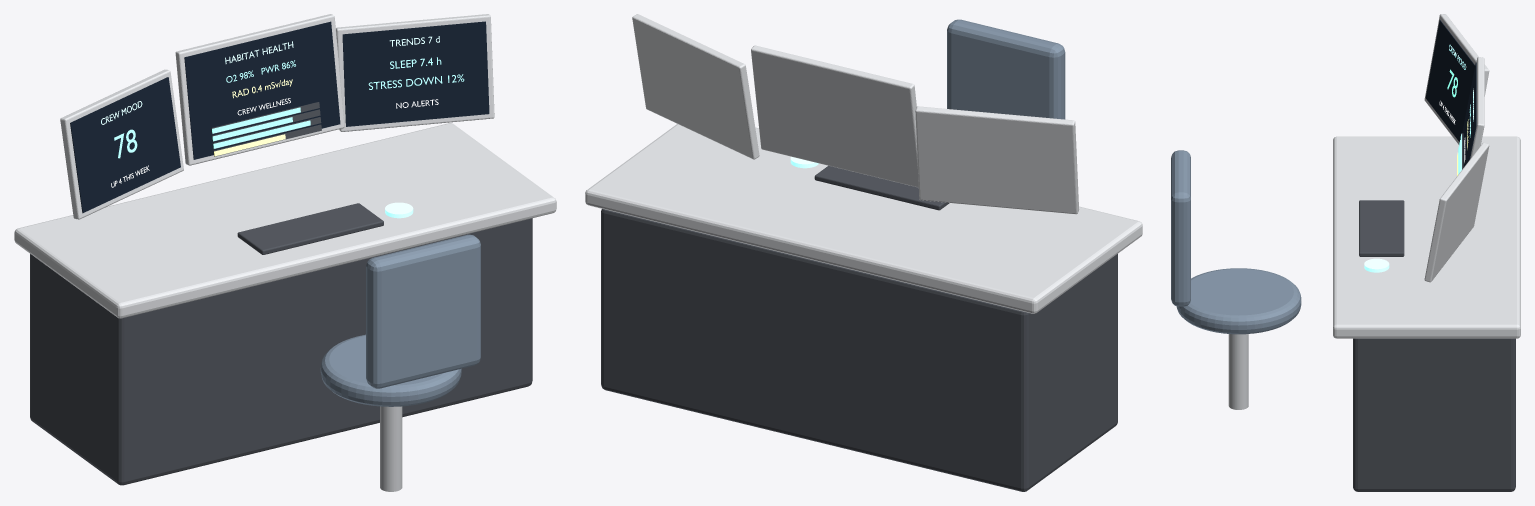
Rendered from habitat_console.glb.
The picture shows the model from 3 angles, left to right: view 1: azimuth 30°, elevation 25°; view 2: azimuth 150°, elevation 25°; view 3: azimuth 270°, elevation 25°; orthographic projection. The views are drawn at different scales.
Visible parts, largest first — view 1: Desk_Body, Desk_Top, Chair_Back, Trend_Screen_Panel, Habitat_Screen_Panel, Mood_Screen_Panel, Chair_Seat, Keyboard, Habitat_Screen_Bezel, Trend_Screen_Bezel, Mood_Screen_Bezel, Chair_Post; view 2: Desk_Body, Desk_Top, Habitat_Screen_Bezel, Mood_Screen_Bezel, Trend_Screen_Bezel, Chair_Back, Keyboard; view 3: Desk_Top, Desk_Body, Chair_Seat, Trend_Screen_Bezel, Mood_Screen_Panel, Chair_Back, Keyboard, Chair_Post, Mood_Screen_Bezel, Habitat_Screen_Panel, Habitat_Screen_Bezel.
Boxes of the visible parts, x1,y1,x2,y2 form: Desk_Body: (30, 218, 532, 485); Desk_Top: (14, 123, 556, 318); Chair_Back: (366, 234, 480, 388); Trend_Screen_Panel: (342, 21, 489, 126); Habitat_Screen_Panel: (184, 21, 340, 159); Mood_Screen_Panel: (70, 77, 180, 213); Chair_Seat: (320, 334, 461, 406); Keyboard: (237, 203, 383, 254); Habitat_Screen_Bezel: (175, 14, 344, 165); Trend_Screen_Bezel: (336, 14, 494, 131); Mood_Screen_Bezel: (60, 69, 183, 219); Chair_Post: (380, 406, 402, 491); Desk_Body: (601, 209, 1117, 491); Desk_Top: (585, 124, 1142, 313); Habitat_Screen_Bezel: (751, 45, 918, 187); Mood_Screen_Bezel: (915, 106, 1079, 214); Trend_Screen_Bezel: (632, 14, 759, 159); Chair_Back: (947, 19, 1065, 119); Keyboard: (814, 165, 949, 210); Desk_Top: (1333, 136, 1520, 338); Desk_Body: (1353, 338, 1515, 491); Chair_Seat: (1176, 268, 1301, 334); Trend_Screen_Bezel: (1424, 142, 1489, 282); Mood_Screen_Panel: (1425, 20, 1475, 141); Chair_Back: (1171, 150, 1190, 306); Keyboard: (1359, 200, 1404, 256); Chair_Post: (1228, 334, 1248, 409); Mood_Screen_Bezel: (1424, 14, 1489, 144); Habitat_Screen_Panel: (1462, 62, 1476, 167); Habitat_Screen_Bezel: (1470, 57, 1484, 158).
Bounding box in the file's own units: 1.8 × 1.39 × 1.4.
